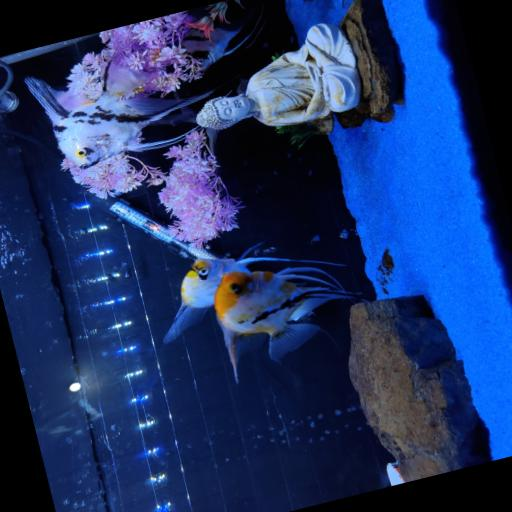Fish: (25, 60, 212, 168), (214, 266, 357, 380), (163, 256, 340, 342), (182, 10, 262, 67)
